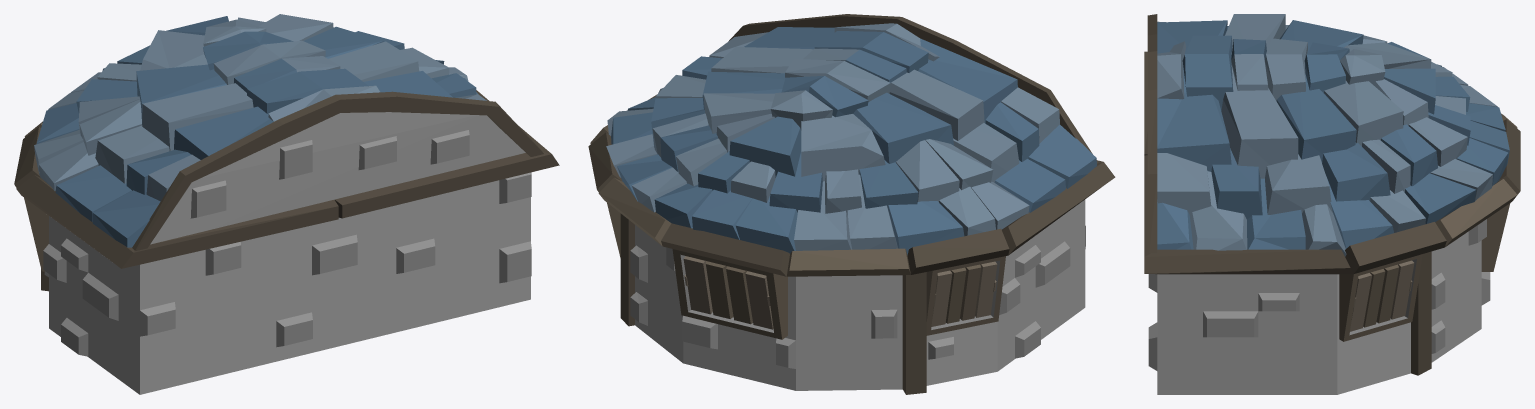
File: _FORTRESS_ROOF_01.fbx
3 renders of one model, left to right at view 1: azimuth 30°, elevation 25°; view 2: azimuth 150°, elevation 25°; view 3: azimuth 270°, elevation 25°, orthographic. The views are drawn at different scales.
Parts seen in each view (by area): view 1: FORTRESS_ROOF_01; view 2: FORTRESS_ROOF_01; view 3: FORTRESS_ROOF_01.
Boxes of the visible parts, box(x1,y1,x2,y2) form: FORTRESS_ROOF_01: box(14, 14, 559, 394); FORTRESS_ROOF_01: box(588, 14, 1115, 394); FORTRESS_ROOF_01: box(1144, 14, 1520, 394).
Bounding box in the file's own units: 486 × 265 × 361.
